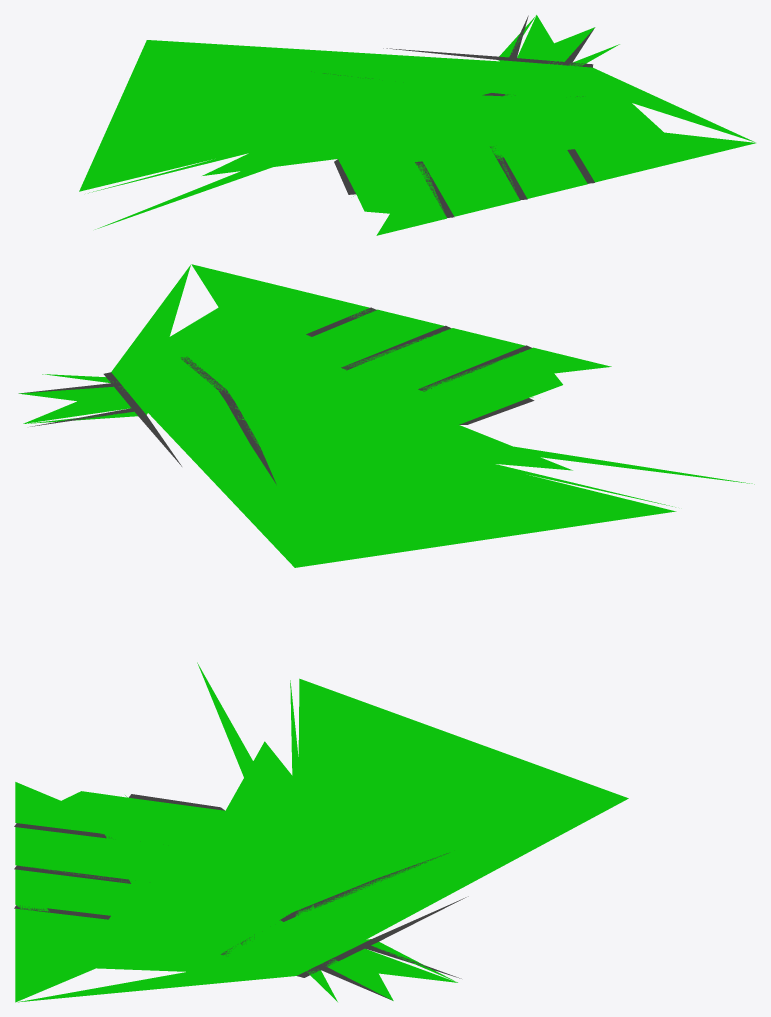
3 renders of one model, top to bottom at view 1: azimuth 30°, elevation 25°; view 2: azimuth 150°, elevation 25°; view 3: azimuth 270°, elevation 25°, orthographic. The views are drawn at different scales.
Size of the model in its own units: 300 by 0 by 276.
